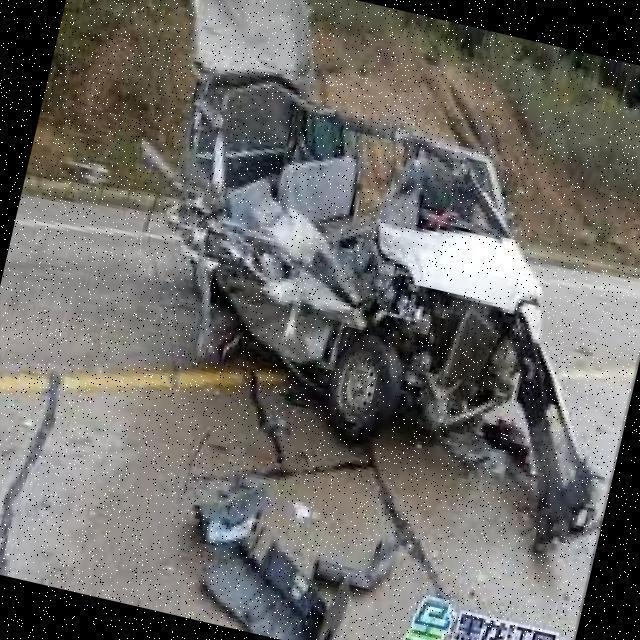accident: (101, 21, 630, 499)
